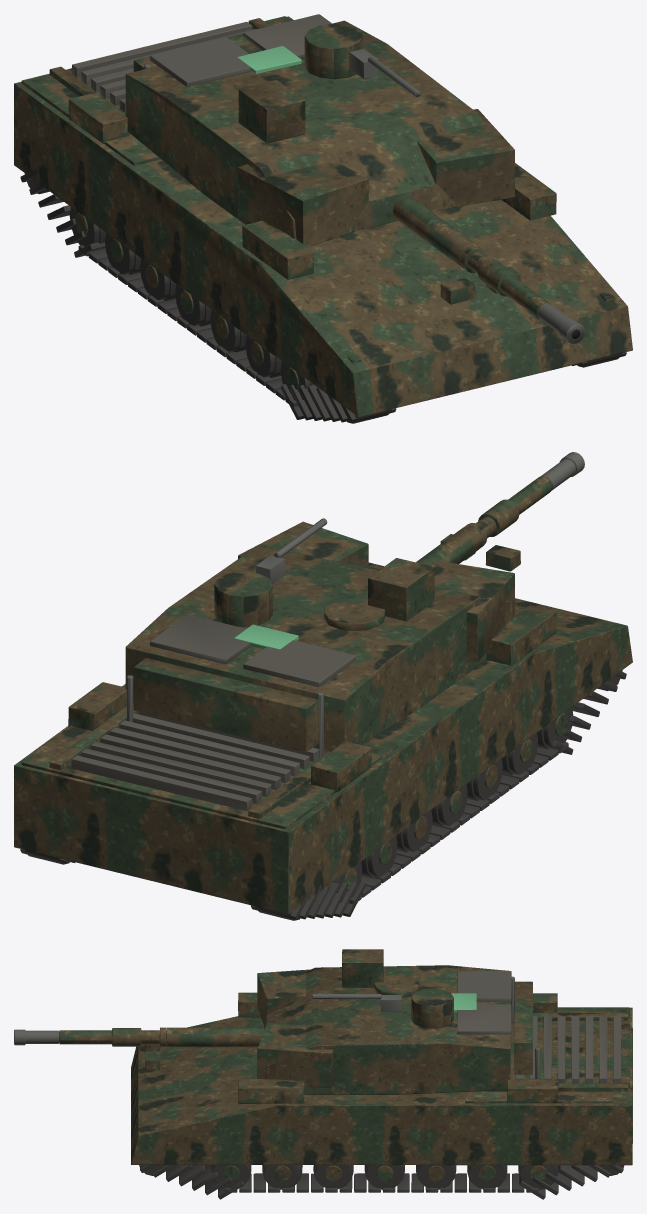
The model's file is mbt_e4_tw_m1a2t_LOD1.glb.
3 renders of one model, top to bottom at view 1: azimuth 30°, elevation 25°; view 2: azimuth 150°, elevation 25°; view 3: azimuth 270°, elevation 25°, orthographic. The views are drawn at different scales.
Parts seen in each view (by area): view 1: mbt_e4_tw_m1a2t_LOD1_body, mbt_e4_tw_m1a2t_LOD1_track, mbt_e4_tw_m1a2t_LOD1_deck, mbt_e4_tw_m1a2t_LOD1_gun, mbt_e4_tw_m1a2t_LOD1_team; view 2: mbt_e4_tw_m1a2t_LOD1_body, mbt_e4_tw_m1a2t_LOD1_deck, mbt_e4_tw_m1a2t_LOD1_track, mbt_e4_tw_m1a2t_LOD1_gun, mbt_e4_tw_m1a2t_LOD1_team; view 3: mbt_e4_tw_m1a2t_LOD1_body, mbt_e4_tw_m1a2t_LOD1_track, mbt_e4_tw_m1a2t_LOD1_deck, mbt_e4_tw_m1a2t_LOD1_gun, mbt_e4_tw_m1a2t_LOD1_team.
Part boxes in pixels (x1=…): mbt_e4_tw_m1a2t_LOD1_body: x1=14, y1=16, x2=632, y2=417; mbt_e4_tw_m1a2t_LOD1_track: x1=20, y1=169, x2=626, y2=423; mbt_e4_tw_m1a2t_LOD1_deck: x1=71, y1=14, x2=332, y2=112; mbt_e4_tw_m1a2t_LOD1_gun: x1=144, y1=49, x2=584, y2=343; mbt_e4_tw_m1a2t_LOD1_team: x1=237, y1=46, x2=301, y2=74; mbt_e4_tw_m1a2t_LOD1_body: x1=14, y1=476, x2=632, y2=914; mbt_e4_tw_m1a2t_LOD1_deck: x1=71, y1=614, x2=356, y2=810; mbt_e4_tw_m1a2t_LOD1_track: x1=20, y1=670, x2=626, y2=920; mbt_e4_tw_m1a2t_LOD1_gun: x1=126, y1=452, x2=584, y2=757; mbt_e4_tw_m1a2t_LOD1_team: x1=234, y1=624, x2=298, y2=649; mbt_e4_tw_m1a2t_LOD1_body: x1=59, y1=949, x2=632, y2=1181; mbt_e4_tw_m1a2t_LOD1_track: x1=139, y1=1164, x2=624, y2=1199; mbt_e4_tw_m1a2t_LOD1_deck: x1=457, y1=971, x2=621, y2=1083; mbt_e4_tw_m1a2t_LOD1_gun: x1=14, y1=976, x2=539, y2=1079; mbt_e4_tw_m1a2t_LOD1_team: x1=451, y1=993, x2=476, y2=1012.
Size of the model in its own units: 3.66 by 3.02 by 9.77.
Materials: 6 (1 with a texture image).
